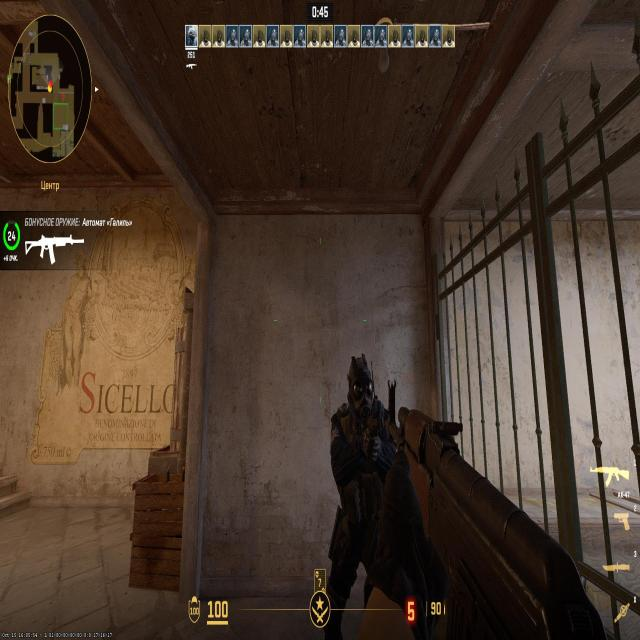CT: (346, 358, 381, 537)
CT_heat: (357, 371, 373, 409)
